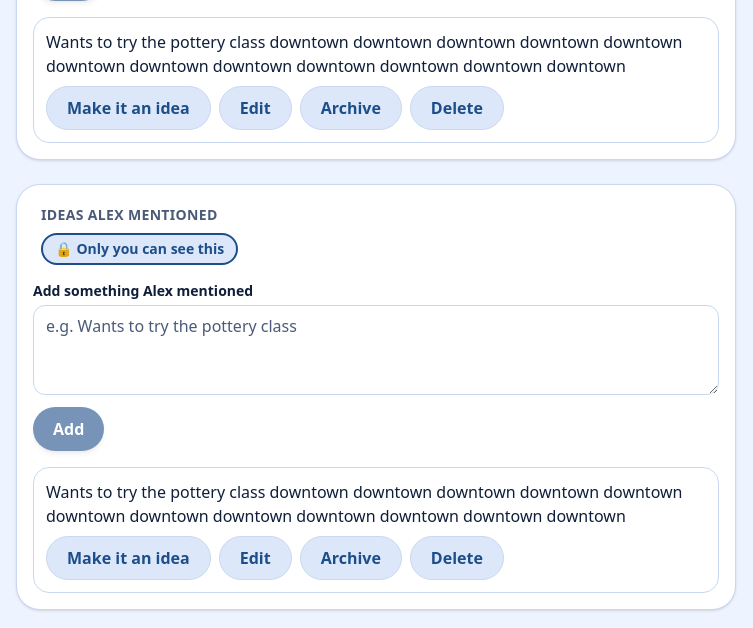
NotesSection: make it an idea › prefills the idea form from the note and saves a private idea
(page scrolled)
What coordinates should you click on to do the following:
click the button "Make it an idea" below "Add something Alex mentioned"
I would click on:
 (128, 558)
Its box is top-left (46, 536), bottom-right (211, 580).
(page scrolled)
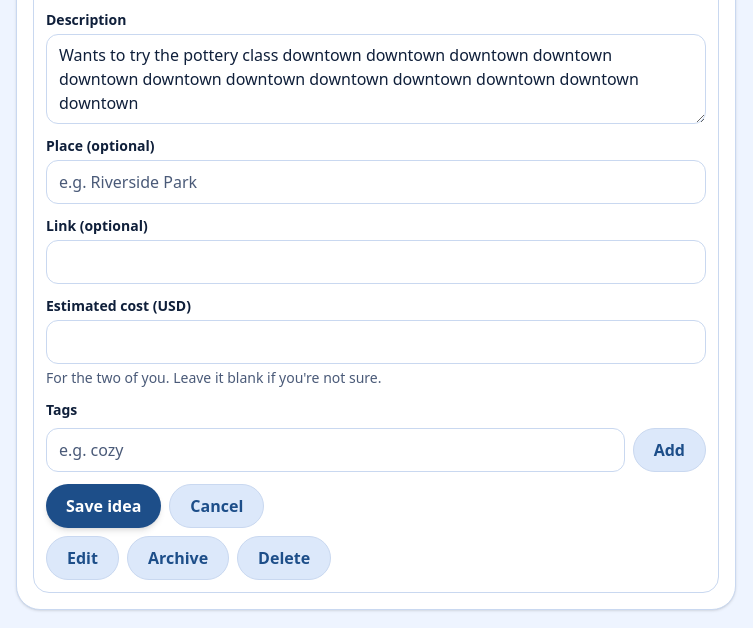
What coordinates should you click on to do the following:
click the button "Save idea"
I would click on:
 (104, 506)
Its box is top-left (46, 484), bottom-right (161, 528).
(page scrolled)
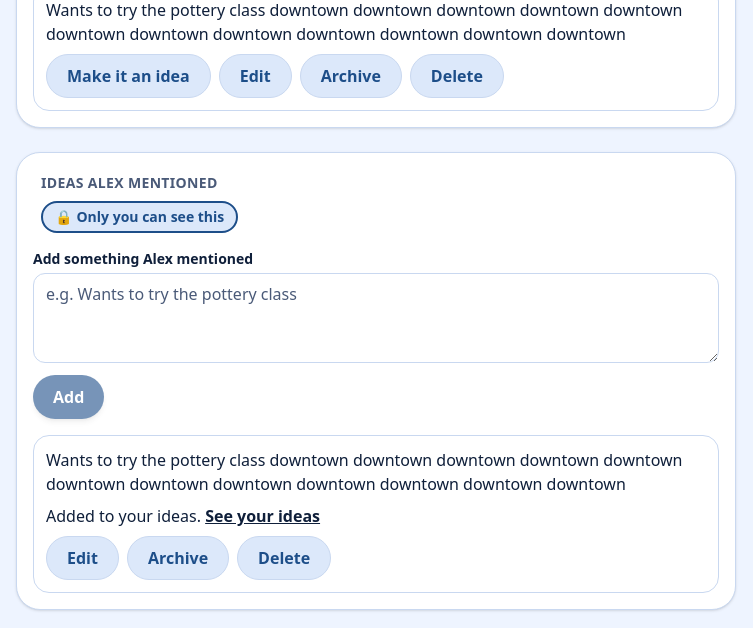
Expected: the text "Added to your ideas. See your ideas" is shown, top-left (46, 505), bottom-right (320, 527)
